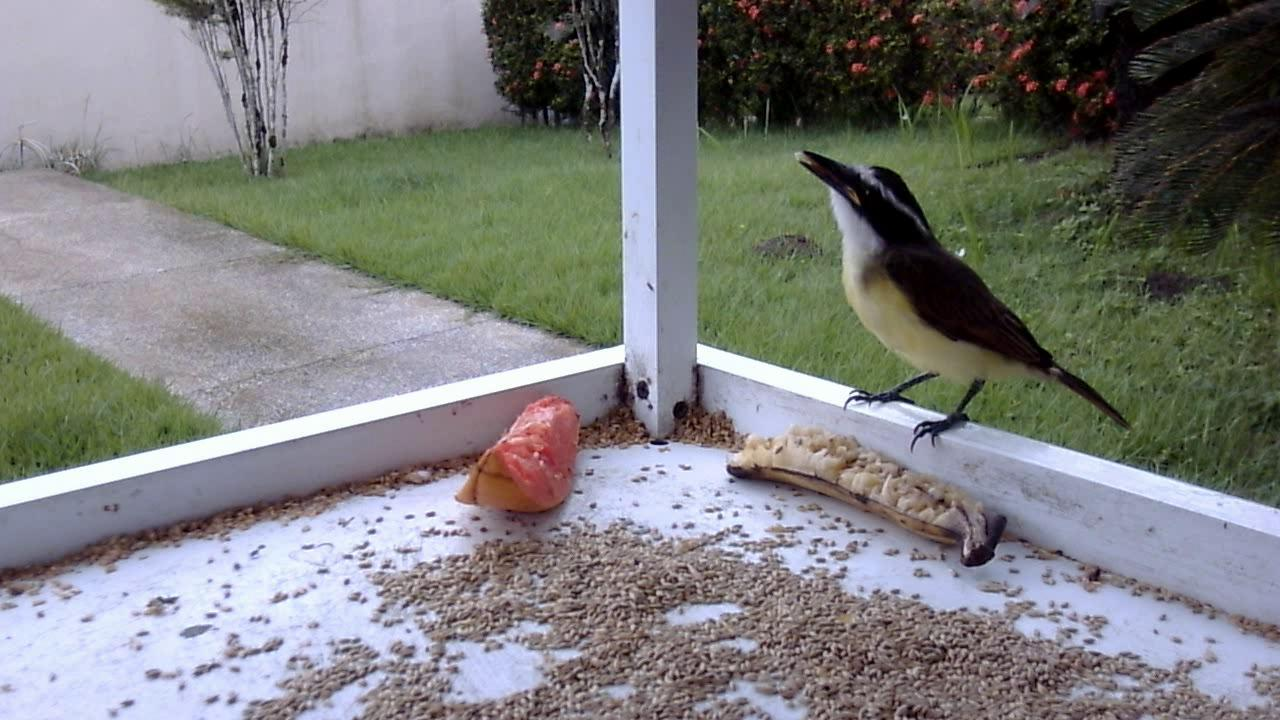bem_te_vi: (781, 142, 1141, 470)
